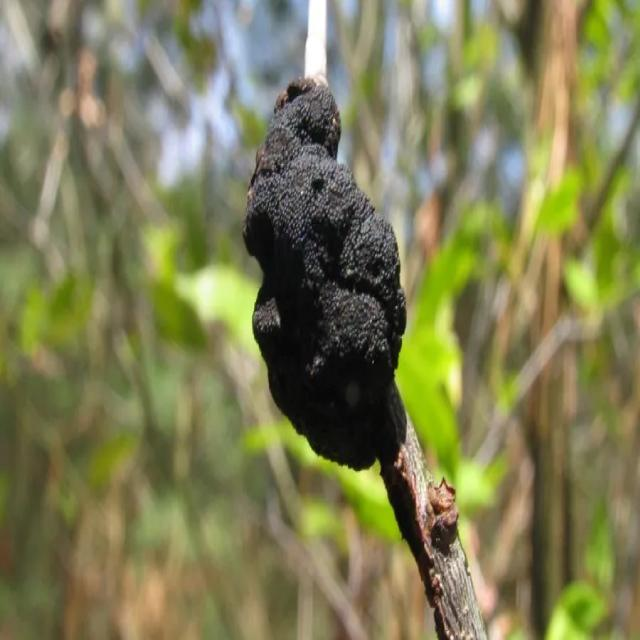Black_knot: (241, 74, 409, 471)
